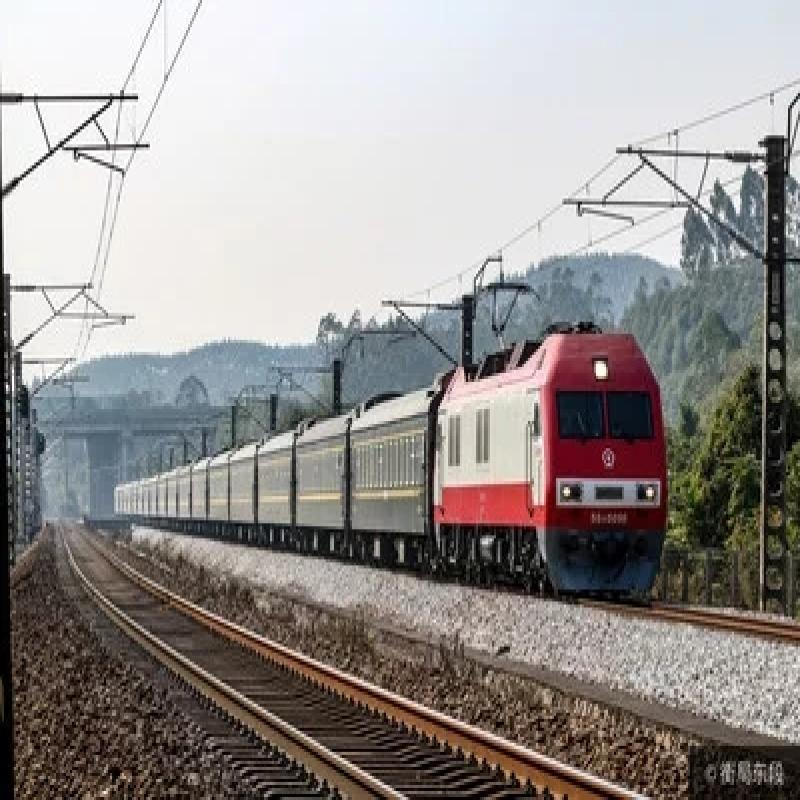train: (431, 311, 667, 608), (115, 380, 433, 575)
